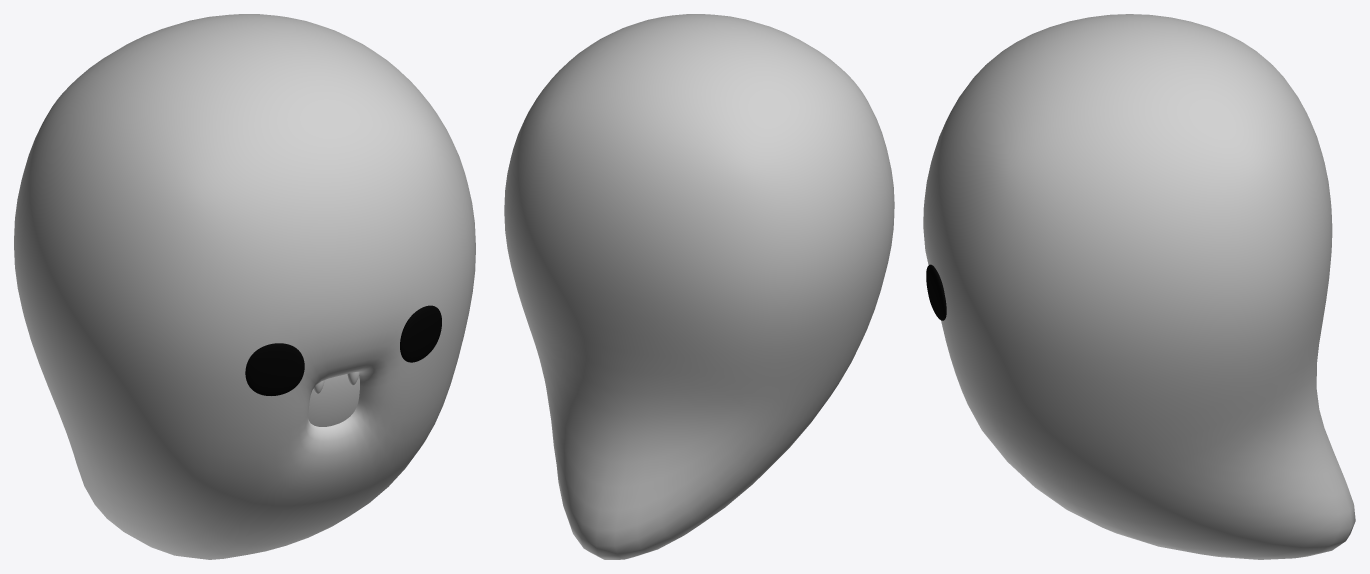
The model's file is ghost.fbx.
3 views of the same model, side by side, from view 1: azimuth 30°, elevation 25°; view 2: azimuth 150°, elevation 25°; view 3: azimuth 270°, elevation 25° (orthographic). The views are drawn at different scales.
Parts seen in each view (by area): view 1: Cube, Cube.001, Cube.007; view 2: Cube; view 3: Cube, Cube.001.
Boxes of the visible parts, box(x1,y1,x2,y2) form: Cube: box(14, 14, 475, 559); Cube.001: box(245, 305, 441, 395); Cube.007: box(308, 374, 359, 426); Cube: box(504, 14, 894, 559); Cube: box(923, 14, 1355, 559); Cube.001: box(926, 264, 946, 320).
Bounding box in the file's own units: 160 × 213 × 163.
